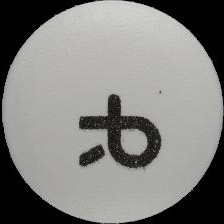67544-899: (0, 0, 224, 224)
